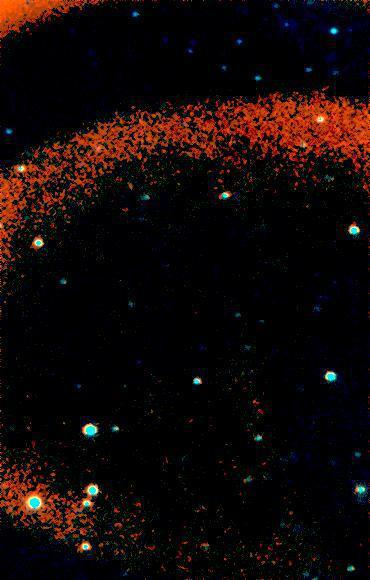star: (115, 164, 145, 194)
